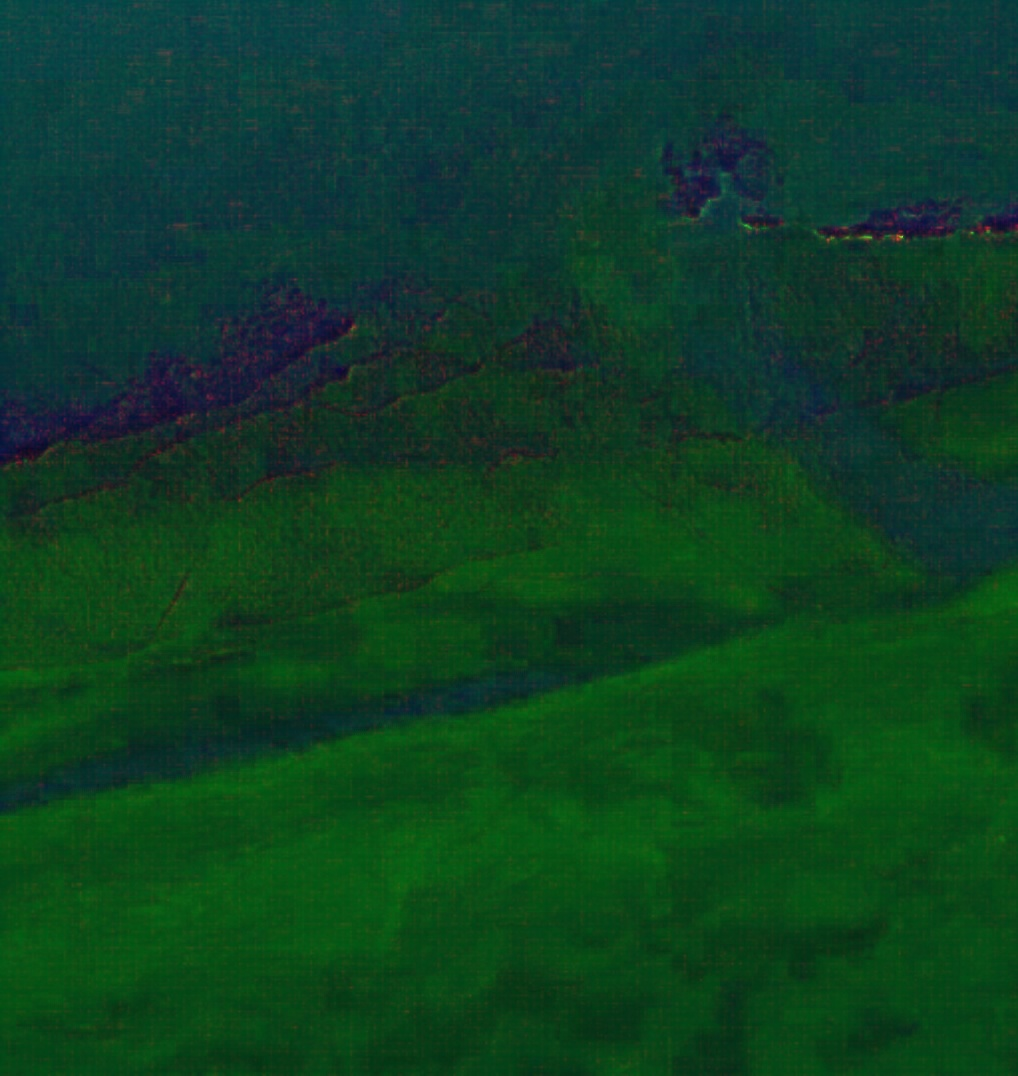rip_current: (509, 168, 912, 541)
